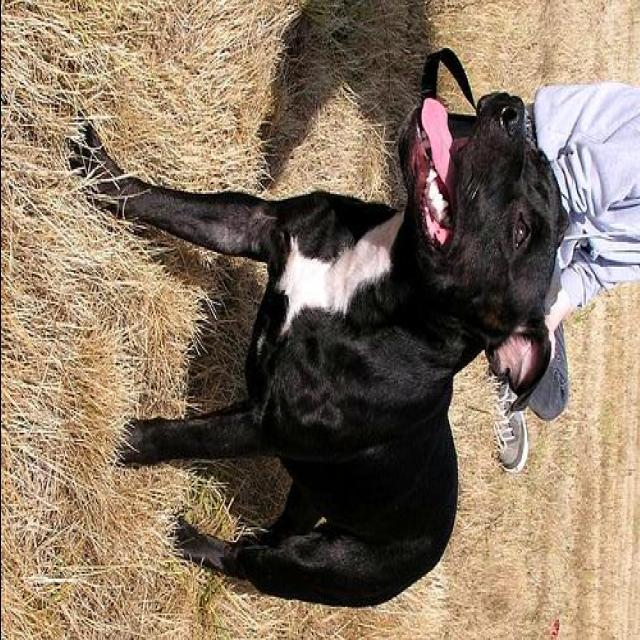staffordshire_bullterrier: (66, 88, 574, 608)
